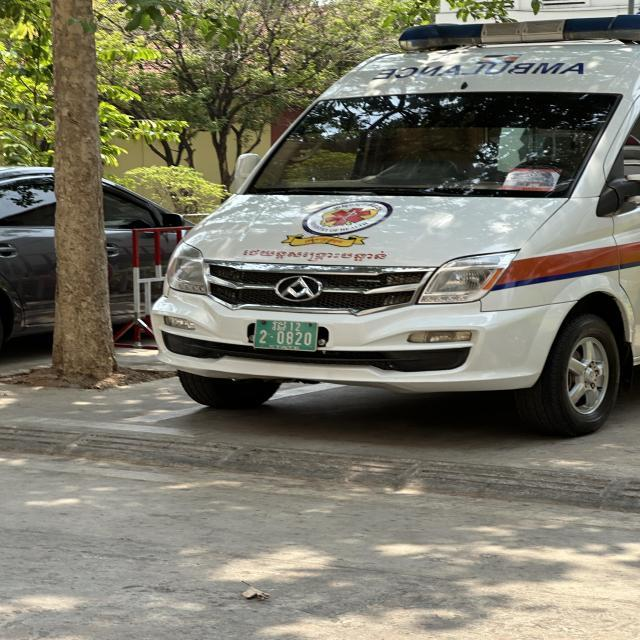State: (271, 321, 288, 331)
